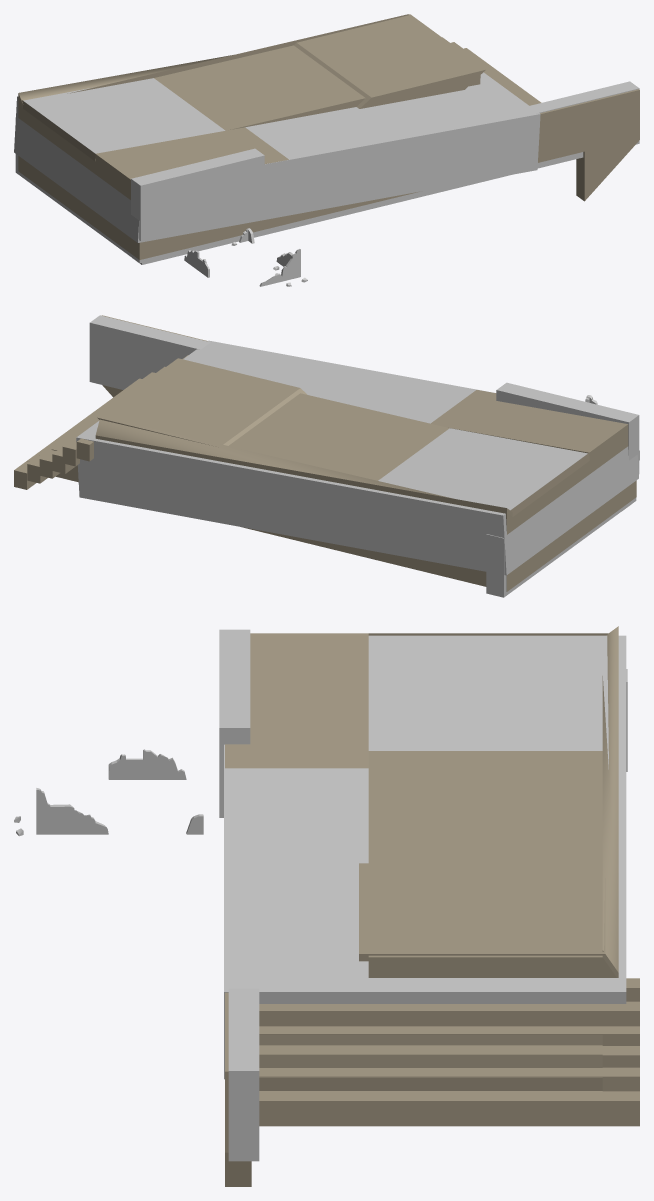
Rendered from Prop 1.obj.
The picture shows the model from 3 angles, top to bottom: view 1: azimuth 30°, elevation 25°; view 2: azimuth 150°, elevation 25°; view 3: azimuth 270°, elevation 25°; orthographic projection. The views are drawn at different scales.
Visible parts, largest first — view 1: pb-MergedObject-173138_1, pb-MergedObject-173138_0; view 2: pb-MergedObject-173138_1, pb-MergedObject-173138_0; view 3: pb-MergedObject-173138_0, pb-MergedObject-173138_1.
Boxes of the visible parts, bbox=[...] form: pb-MergedObject-173138_1: bbox=[14, 72, 639, 286]; pb-MergedObject-173138_0: bbox=[18, 14, 639, 259]; pb-MergedObject-173138_1: bbox=[76, 315, 639, 597]; pb-MergedObject-173138_0: bbox=[14, 315, 636, 591]; pb-MergedObject-173138_0: bbox=[225, 626, 639, 1186]; pb-MergedObject-173138_1: bbox=[14, 629, 627, 1161].
Bounding box in the file's own units: 15.27 × 3.72 × 10.14.
